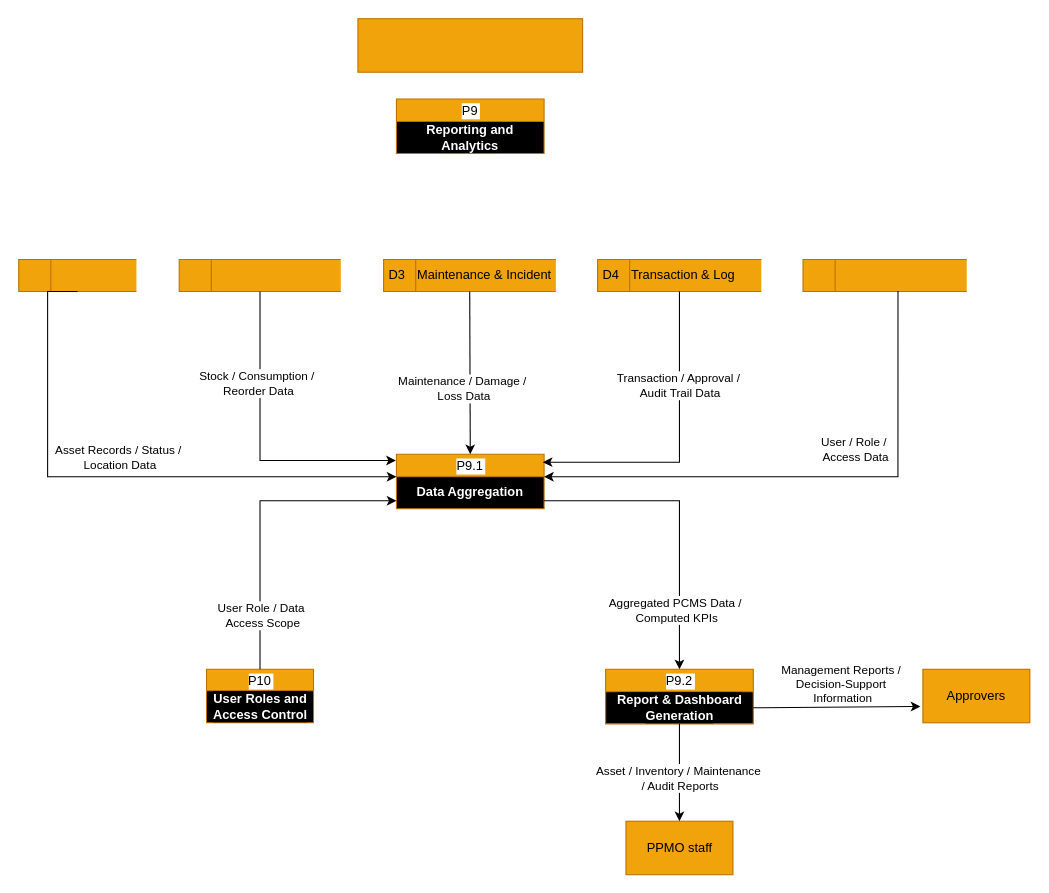
Some shapes in this 1049 by 893 pixel diagram are drawn without their labels. Here are the shapes that lost their labels. From the top down, the centre of each, then its label:
(x=470, y=45): DATA FLOW DIAGRAMS LEVEL 2
(x=77, y=275): D1 Asset Ledger
(x=259, y=275): D2 Inventory & Supplies
(x=884, y=275): D5 User Roles Database
